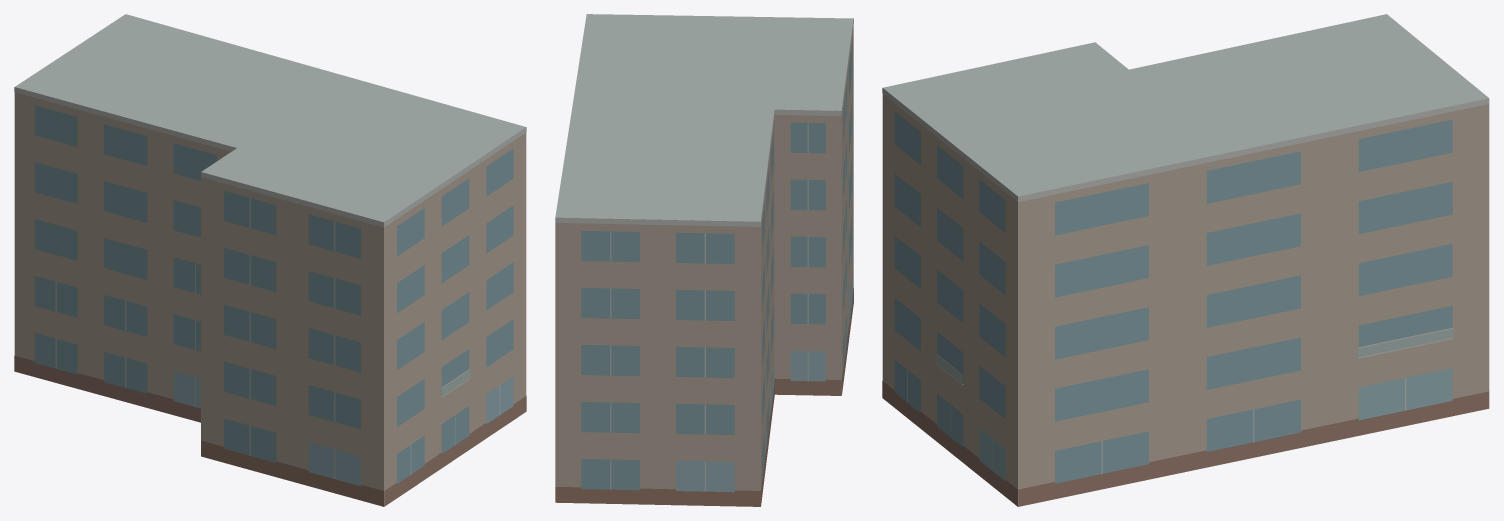
The model's file is survey-upis-32836638.glb.
The picture shows the model from 3 angles, left to right: view 1: azimuth 30°, elevation 25°; view 2: azimuth 150°, elevation 25°; view 3: azimuth 270°, elevation 25°; orthographic projection. The views are drawn at different scales.
Visible parts, largest first — view 1: survey-upis-32836638.tmp; view 2: survey-upis-32836638.tmp; view 3: survey-upis-32836638.tmp.
Part boxes in pixels (x1,y1,x2,y2): survey-upis-32836638.tmp: (14,14,526,506); survey-upis-32836638.tmp: (555,14,853,506); survey-upis-32836638.tmp: (882,14,1489,506).
Bounding box in the file's own units: 16.91 × 13.4 × 23.75.
